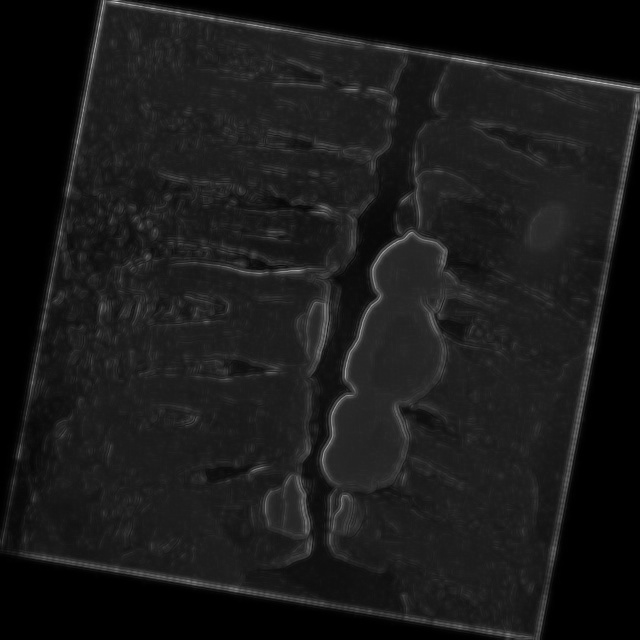Class 1- complete endodontic treatment: (351, 227, 582, 353)
Class 2- incomplete endodontic treatment: (301, 386, 519, 536)
cavity: (90, 221, 344, 397), (91, 429, 337, 599), (331, 289, 544, 440)
